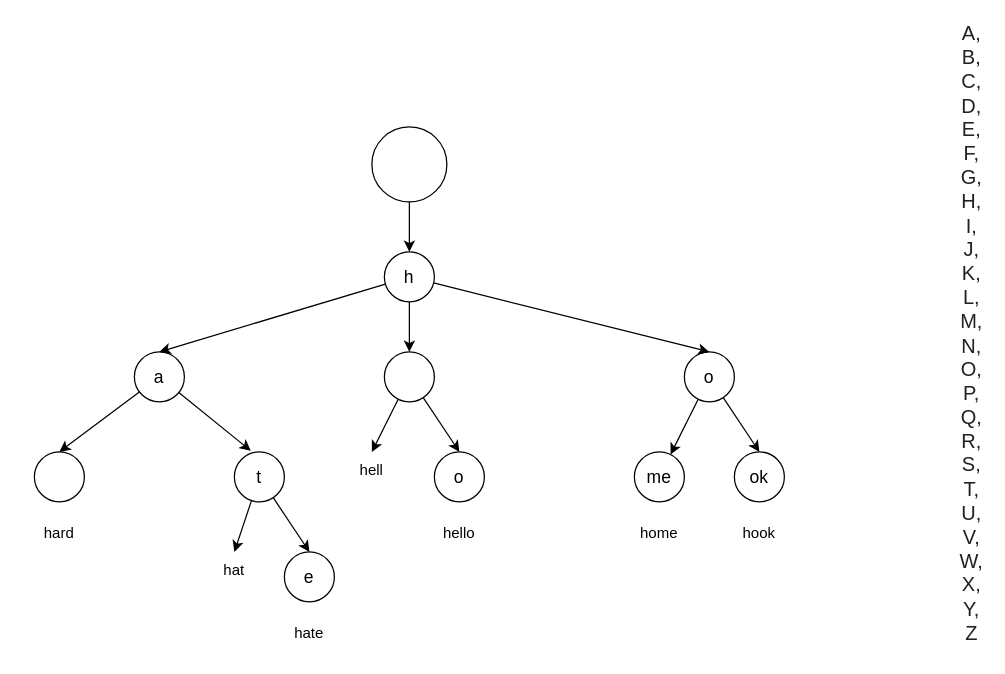
Some shapes in this 1005 by 674 pixel diagram are drawn without their labels. The shapes that lost their labels are listed below. From the top down, each one's centre as x and y in pixels, then its label:
[409,164]: ROOT
[408,376]: ell
[58,476]: rd
